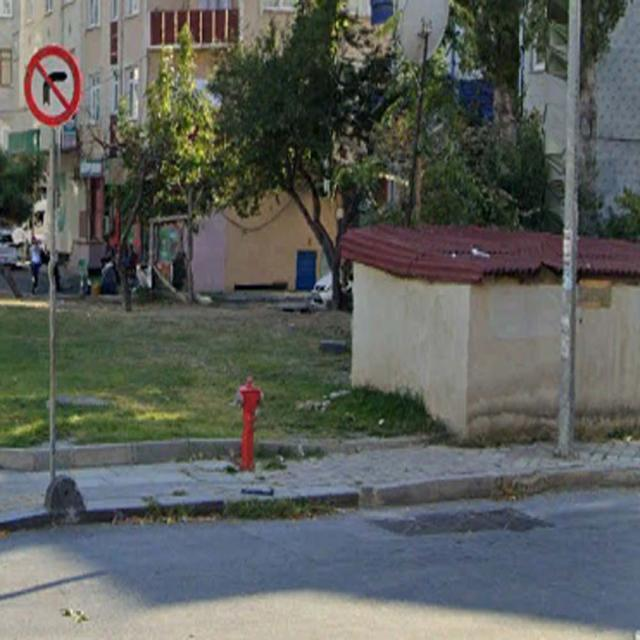sagadonulmez: (26, 46, 80, 122)
